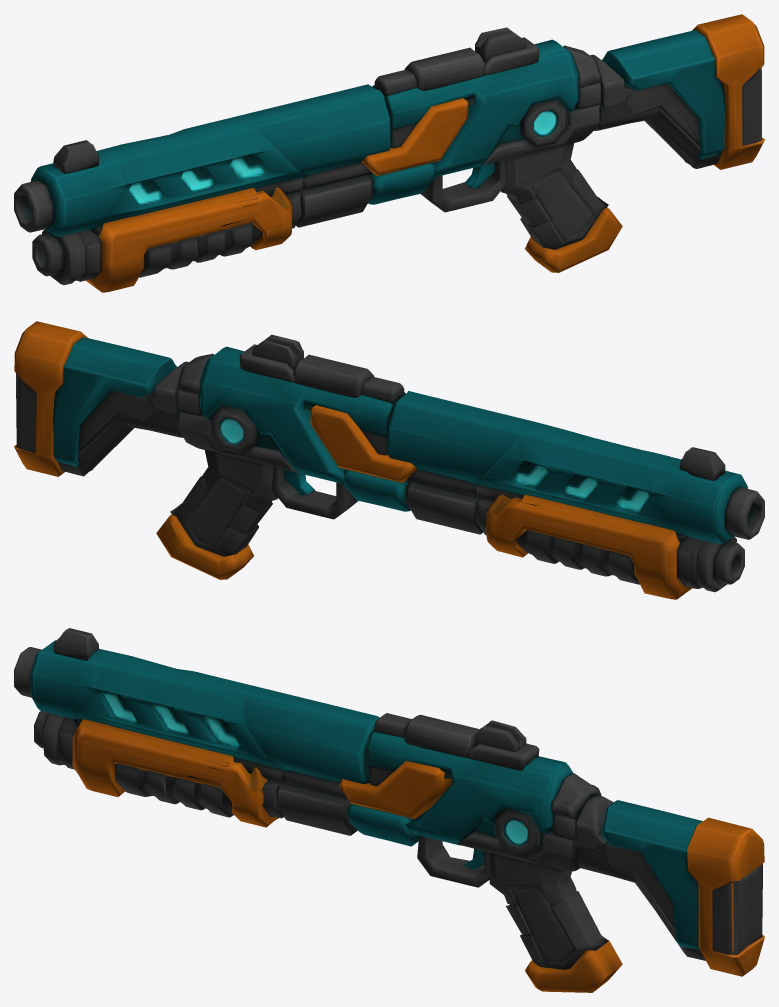
Rendered from shotgun.fbx.
The picture shows the model from 3 angles, top to bottom: view 1: azimuth 30°, elevation 25°; view 2: azimuth 150°, elevation 25°; view 3: azimuth 330°, elevation 25°; orthographic projection.
Visible parts, largest first — view 1: geometry_0; view 2: geometry_0; view 3: geometry_0.
Part boxes in pixels (<box>): geometry_0: <box>14,14,764,292</box>; geometry_0: <box>14,321,764,599</box>; geometry_0: <box>14,628,764,992</box>.
Size of the model in its own units: 95.75 by 30.91 by 8.15.
Materials: 1 (1 with a texture image).
